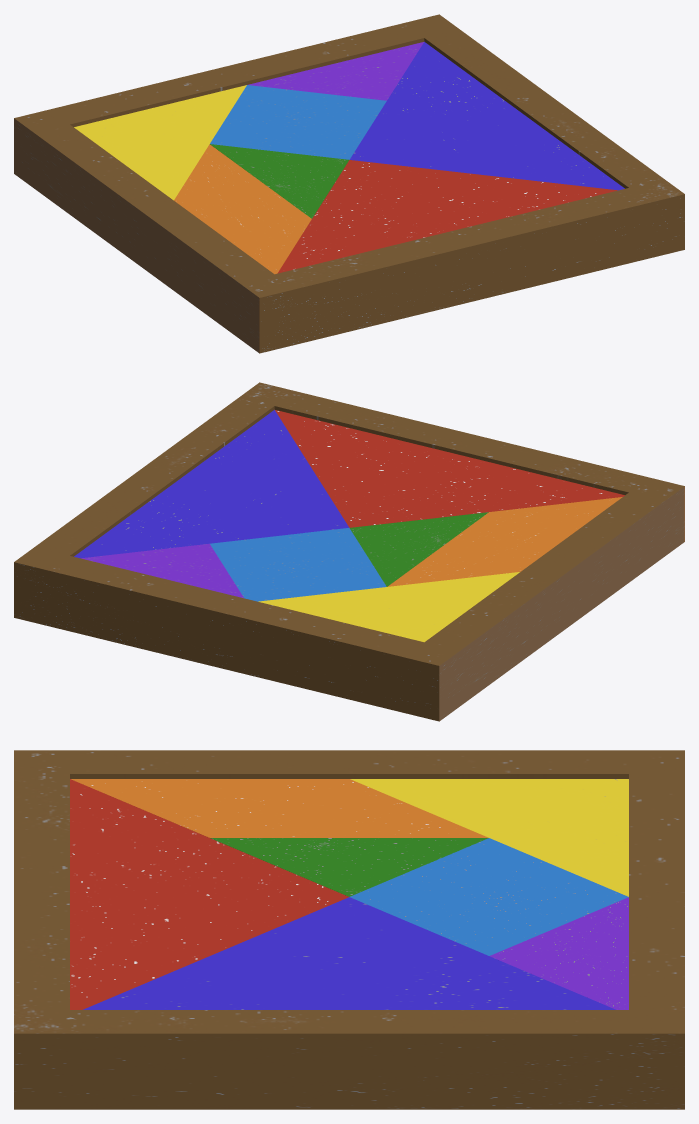
Rendered from Tangram .fbx.
The picture shows the model from 3 angles, top to bottom: view 1: azimuth 30°, elevation 25°; view 2: azimuth 150°, elevation 25°; view 3: azimuth 270°, elevation 25°; orthographic projection. The views are drawn at different scales.
Parts seen in each view (by area): view 1: Box, Indigo, Red, Blue, Yellow, Orange, purple, Green; view 2: Box, Red, Indigo, Blue, Orange, Yellow, Green, purple; view 3: Box, Red, Indigo, Blue, Orange, Yellow, Green, purple.
Boxes of the visible parts, <box> form: Box: <box>14,14,684,353</box>; Indigo: <box>349,42,624,190</box>; Red: <box>277,160,617,273</box>; Blue: <box>210,85,386,159</box>; Yellow: <box>74,85,246,200</box>; Orange: <box>174,144,311,274</box>; purple: <box>248,42,423,100</box>; Green: <box>210,144,348,218</box>; Box: <box>14,382,684,721</box>; Red: <box>275,410,624,527</box>; Indigo: <box>74,410,349,558</box>; Blue: <box>210,528,386,601</box>; Orange: <box>387,497,622,586</box>; Yellow: <box>258,572,519,642</box>; Green: <box>349,512,488,586</box>; purple: <box>81,543,243,598</box>; Box: <box>14,750,684,1109</box>; Red: <box>70,779,348,1009</box>; Indigo: <box>83,897,615,1009</box>; Blue: <box>350,838,628,955</box>; Orange: <box>71,779,488,837</box>; Yellow: <box>350,779,628,896</box>; Green: <box>210,838,488,896</box>; purple: <box>489,897,628,1009</box>.
Size of the model in its own units: 59.94 by 7.49 by 59.94.
